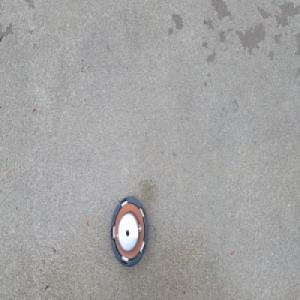FuelCap: (110, 192, 150, 266)
